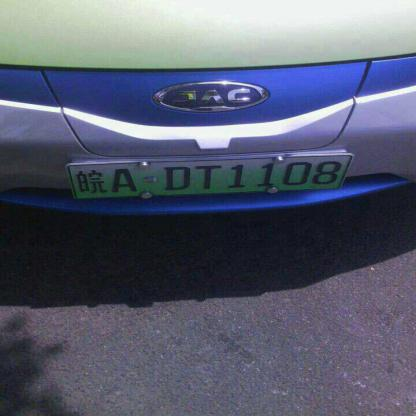lp: (67, 154, 357, 198)
